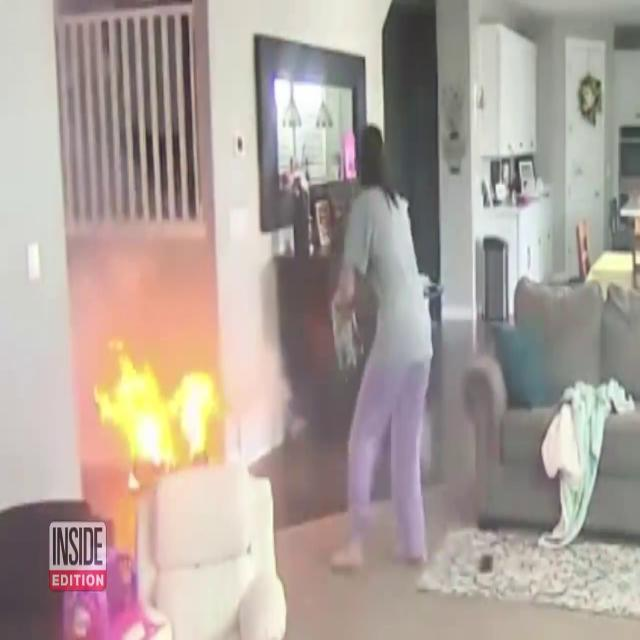Fire: (90, 328, 224, 474)
